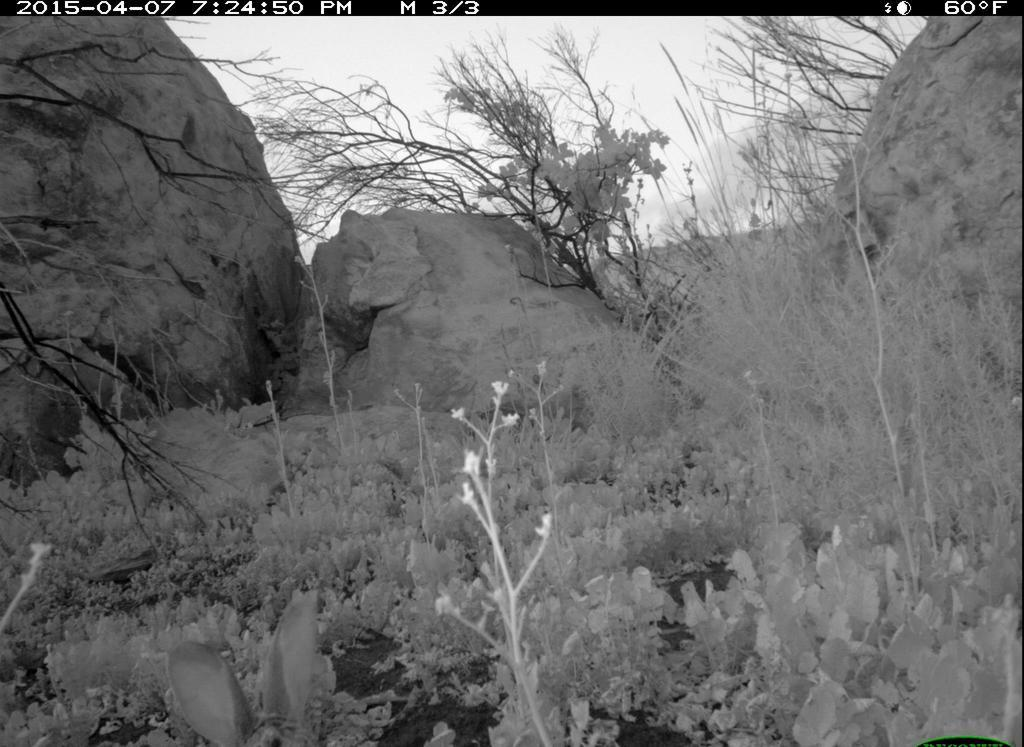rabbit: (150, 583, 347, 747)
